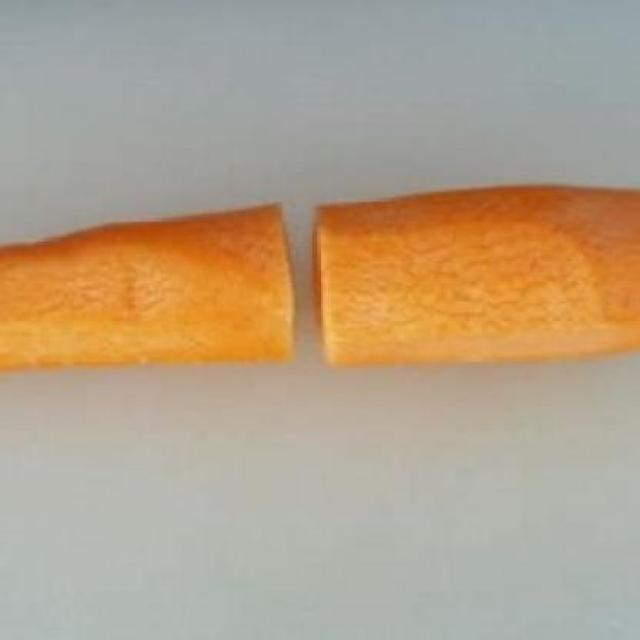carrot: (306, 171, 640, 384), (0, 198, 306, 378)
